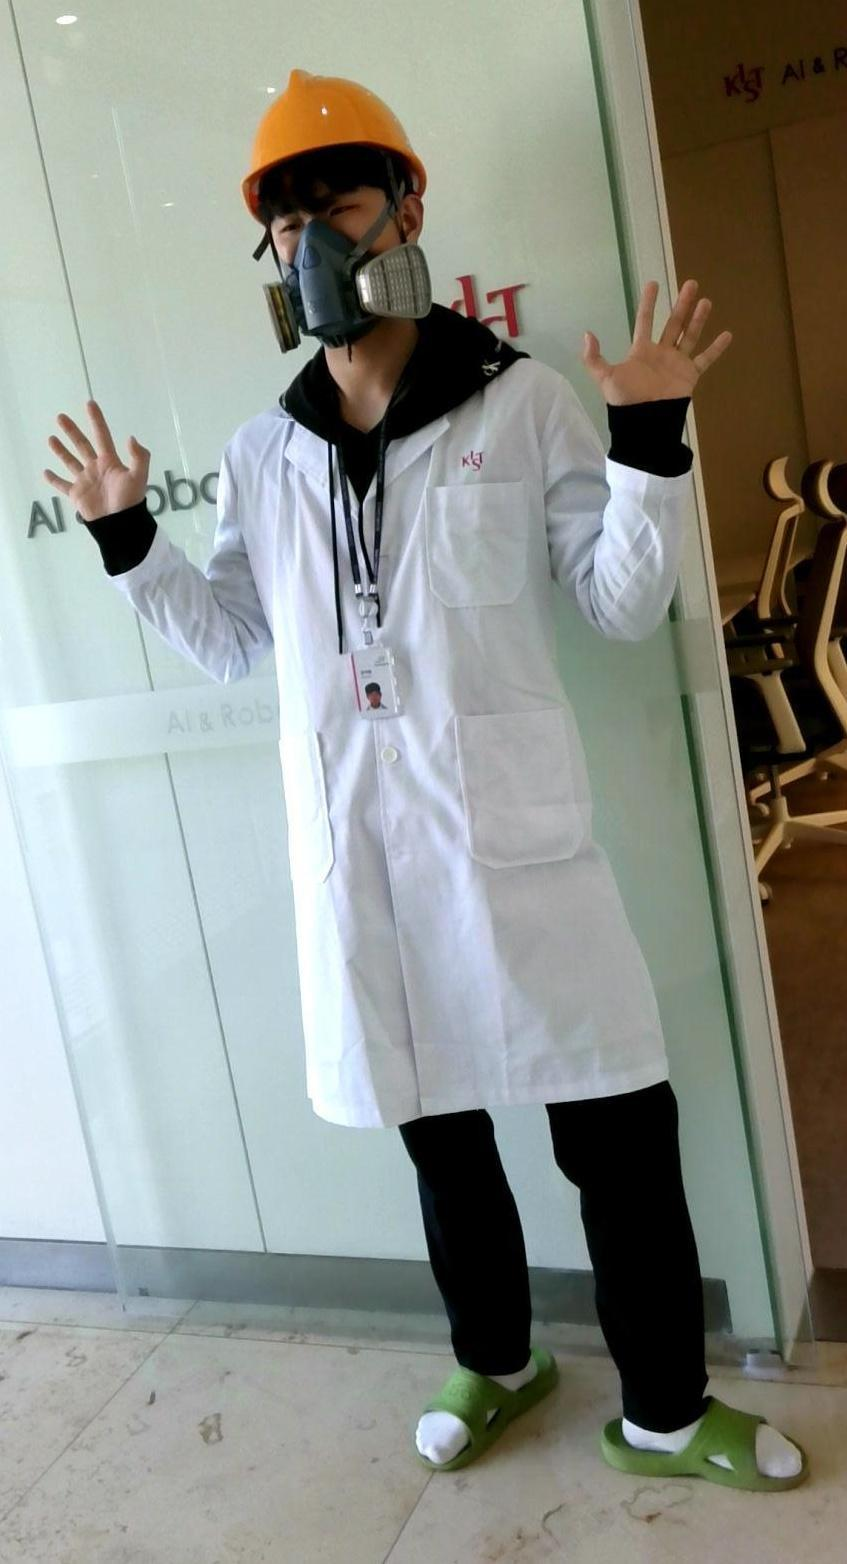lab_coat: (251, 371, 601, 1120)
